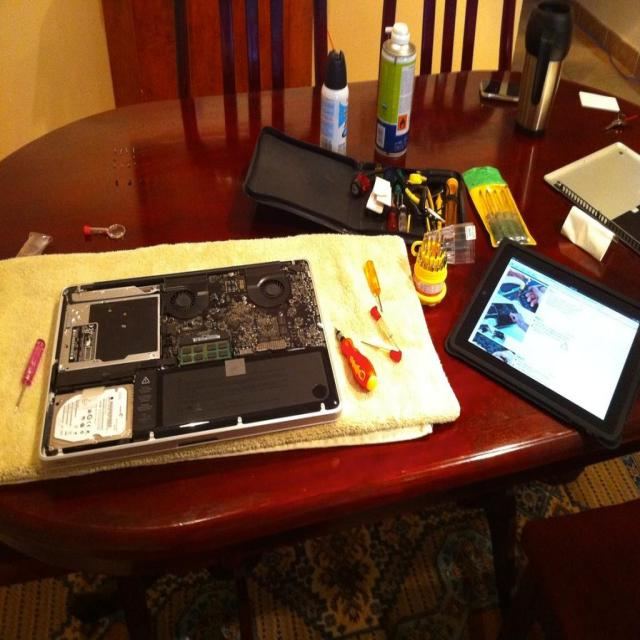Table: (0, 69, 639, 635)
